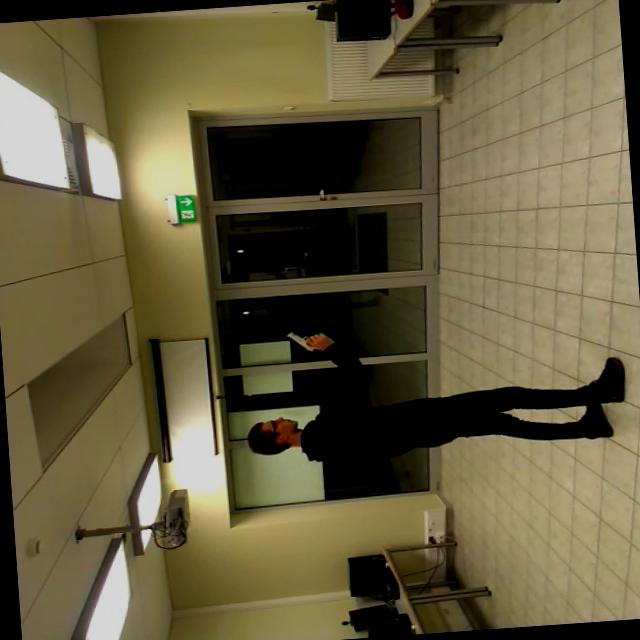handgun: (281, 322, 343, 358)
